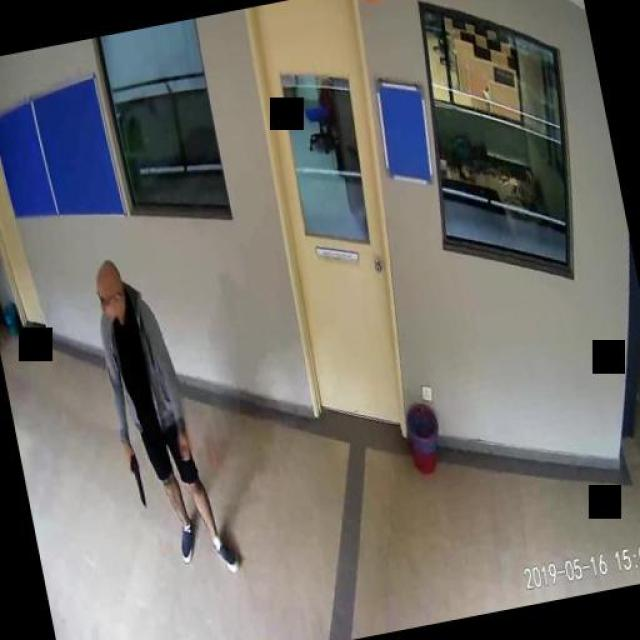gun: (124, 448, 146, 507)
